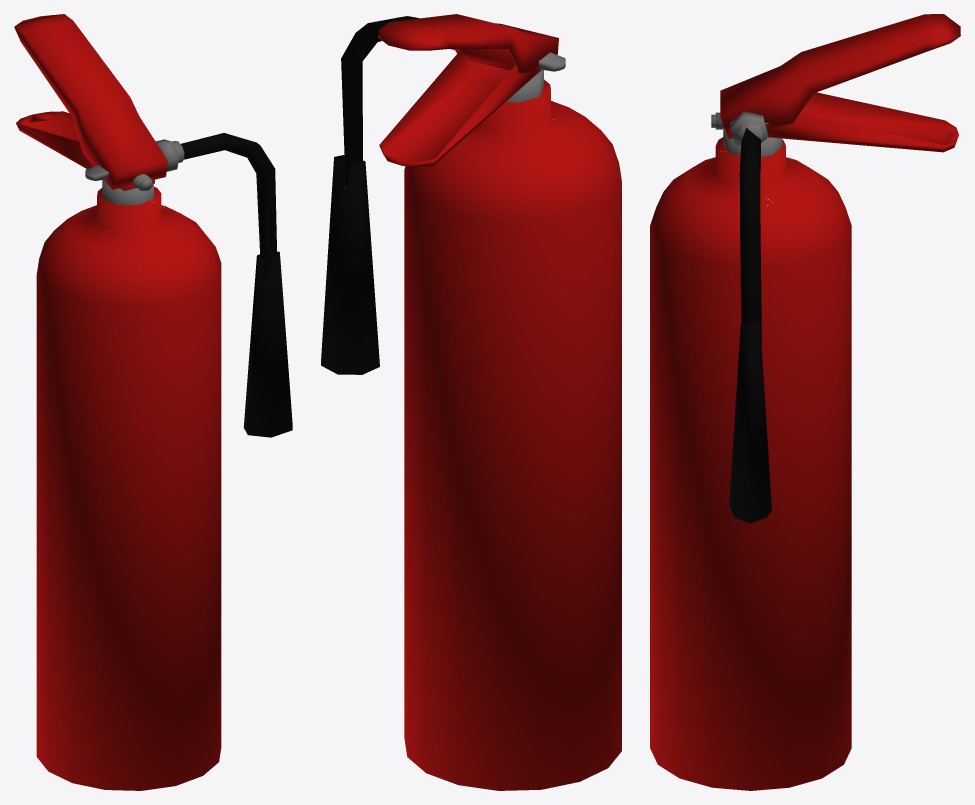
Rendered from fireextinguisher.fbx.
3 renders of one model, left to right at view 1: azimuth 30°, elevation 25°; view 2: azimuth 150°, elevation 25°; view 3: azimuth 270°, elevation 25°, orthographic. The views are drawn at different scales.
Parts seen in each view (by area): view 1: Bottle, Handle, Pins; view 2: Bottle, Handle, Pins; view 3: Bottle, Handle, Pins.
Part boxes in pixels (x1,y1,x2,y2): Bottle: (14,14,221,790); Handle: (181,133,292,437); Pins: (85,139,184,204); Bottle: (378,14,621,790); Handle: (321,16,419,374); Pins: (451,49,565,102); Bottle: (650,14,960,790); Handle: (729,128,771,523); Pins: (711,111,782,156).
Bounding box in the file's own units: 22.99 × 60.04 × 23.44.
3 materials, 3 textured.
